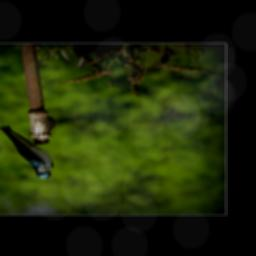Swallow: (0, 123, 54, 180)
